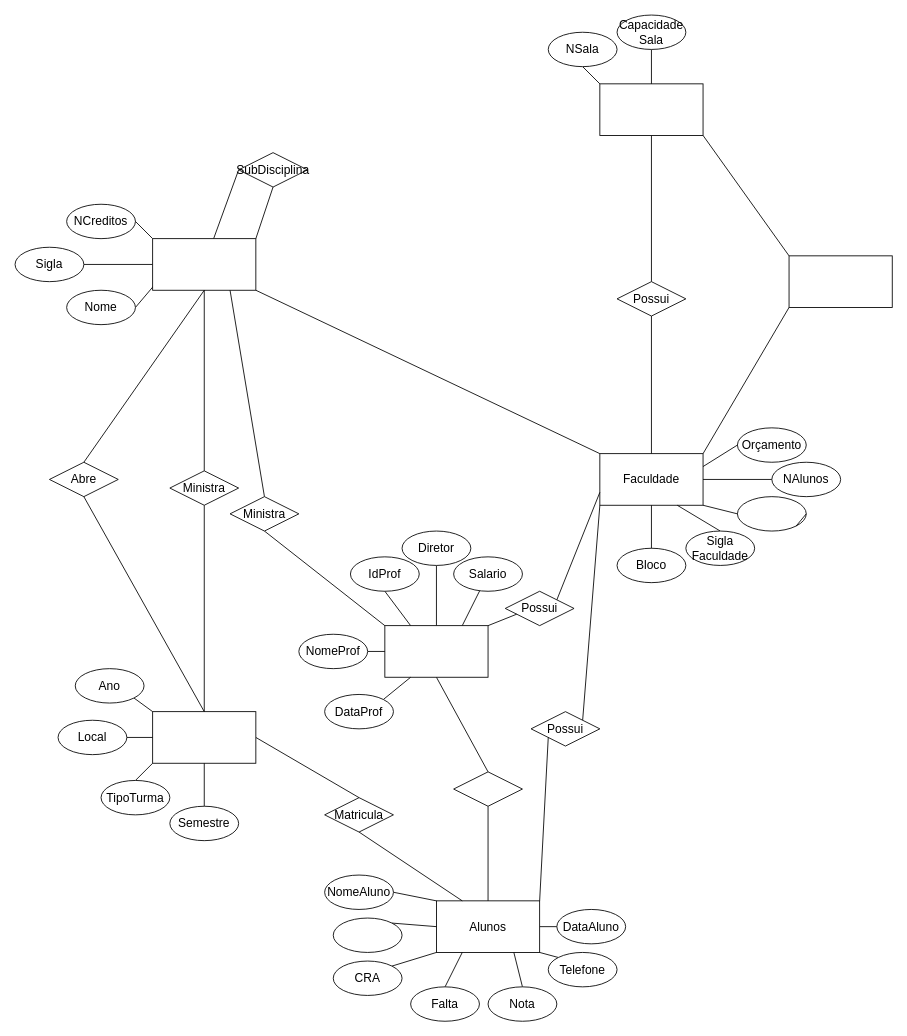
Some shapes in this 907 by 1036 pixel diagram are drawn without their labels. Each missing label, with the box of its shape:
Disciplina: (152, 238, 256, 290)
idAluno: (332, 917, 402, 952)
NProfessores: (737, 496, 806, 531)
Orienta: (453, 771, 522, 806)
Professores: (384, 625, 488, 677)
SalasDeAula: (599, 83, 703, 135)
Turma: (152, 711, 256, 763)
Universidade: (788, 255, 892, 307)
